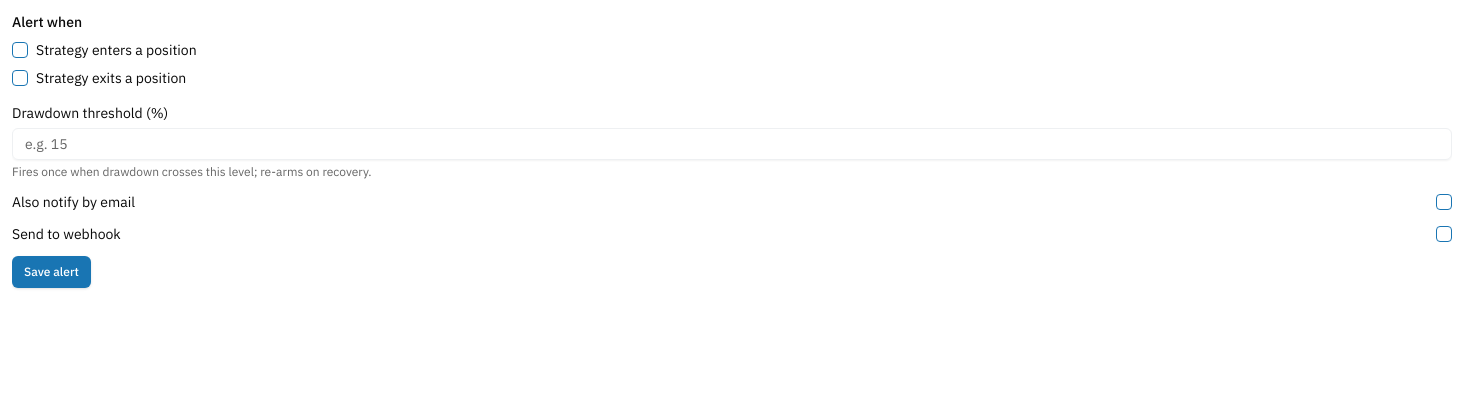
Test: PerformanceAlertPanel — webhook › shows URL input when webhook toggle is checked
What coordinates should you click on to do the following:
click the checkbox named "send to webhook" in the row of "Send to webhook"
I would click on:
 (1444, 234)
Its box is [1436, 226, 1452, 242].
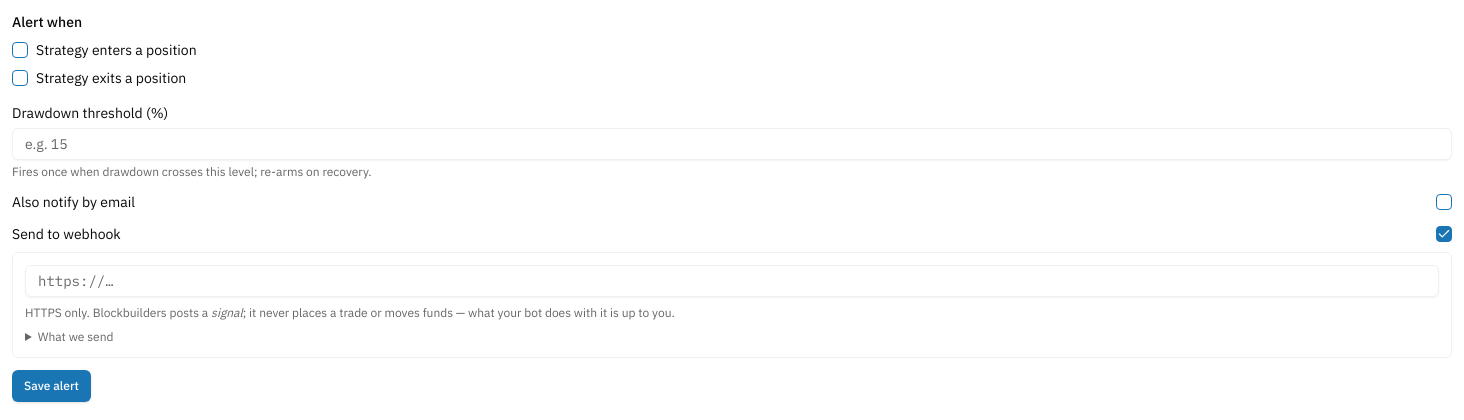
expect the field with placeholder "https://…" is shown: met, box [25, 265, 1439, 297]
